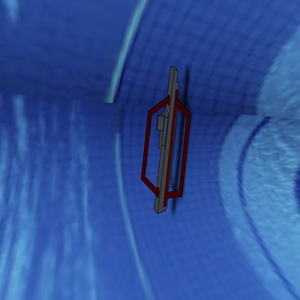submarine: (114, 49, 211, 223)
